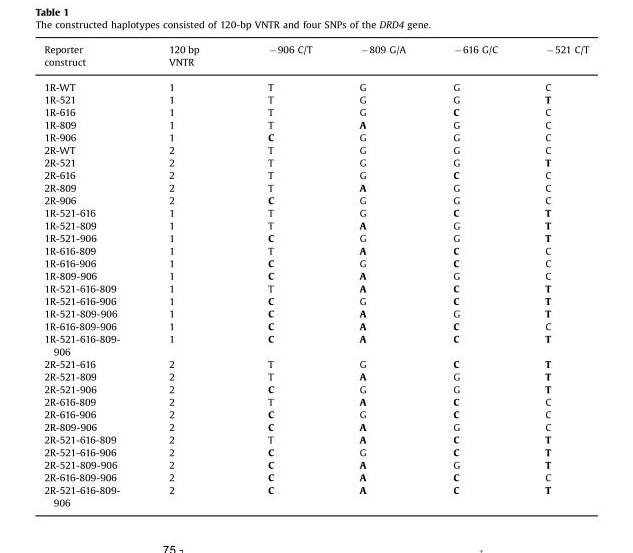table: (43, 43, 588, 507)
table column: (232, 43, 335, 507), (43, 43, 143, 507), (335, 43, 428, 507), (428, 43, 520, 507), (143, 43, 232, 507), (520, 43, 588, 507)
table column header: (43, 43, 588, 73)
table row: (43, 43, 588, 73), (43, 331, 588, 357), (43, 483, 588, 507), (43, 73, 588, 92), (43, 92, 588, 105), (43, 117, 588, 130), (43, 130, 588, 143), (43, 155, 588, 168), (43, 180, 588, 193), (43, 193, 588, 206), (43, 218, 588, 231), (43, 243, 588, 256), (43, 256, 588, 269), (43, 281, 588, 294), (43, 306, 588, 319), (43, 369, 588, 382), (43, 394, 588, 407), (43, 407, 588, 420), (43, 432, 588, 445), (43, 457, 588, 470), (43, 470, 588, 483), (43, 105, 588, 117), (43, 143, 588, 155), (43, 168, 588, 180), (43, 206, 588, 218), (43, 231, 588, 243), (43, 269, 588, 281), (43, 294, 588, 306), (43, 319, 588, 331), (43, 357, 588, 369), (43, 382, 588, 394), (43, 420, 588, 432), (43, 445, 588, 457)
